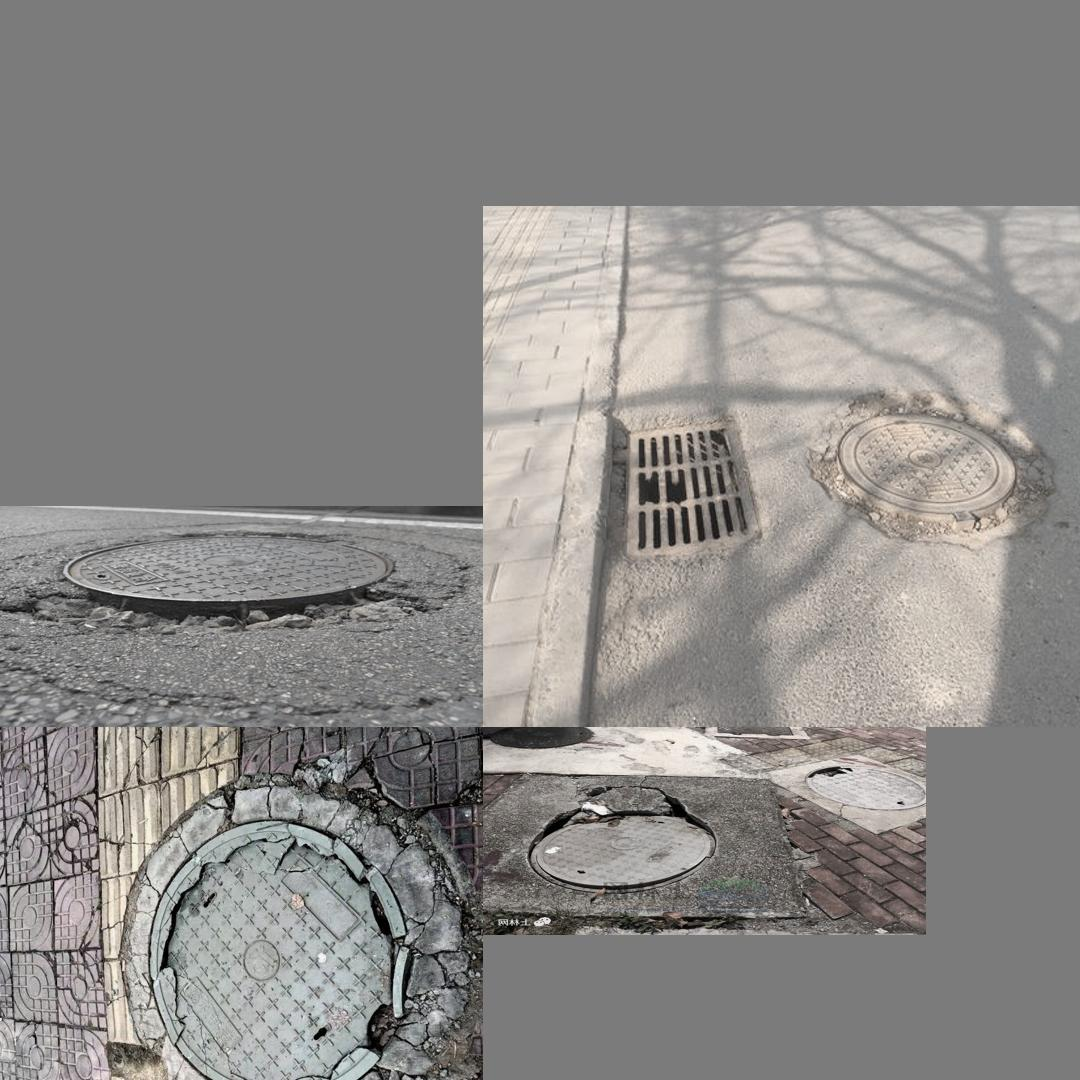circle: (113, 775, 461, 1080), (7, 526, 466, 642), (485, 768, 813, 918), (800, 375, 1055, 556)
